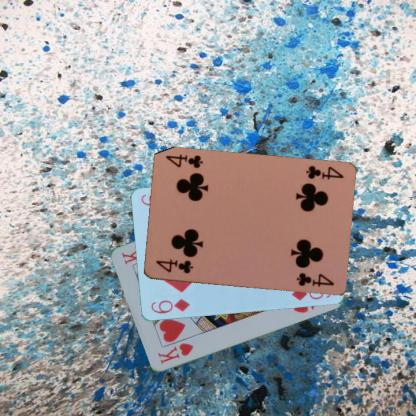4c: (153, 257, 194, 275), (303, 163, 344, 181)
6d: (148, 297, 191, 316)
Kh: (155, 340, 195, 366)
